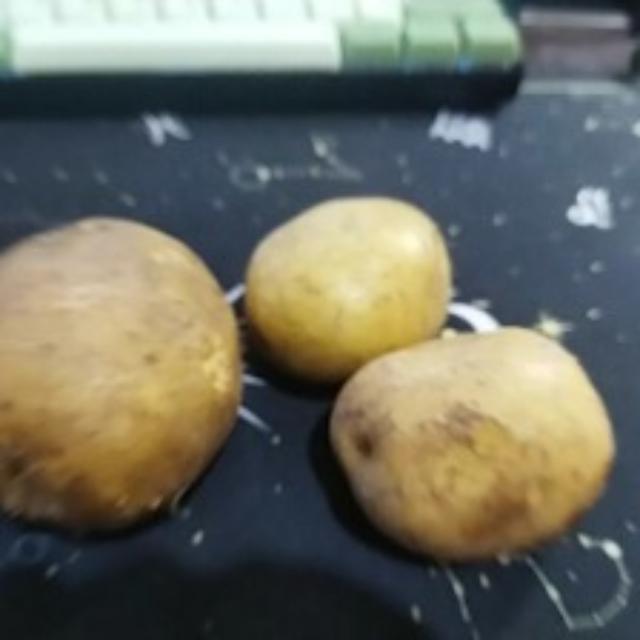Damaged potato: (3, 218, 250, 542), (324, 322, 620, 568)
Potato: (241, 196, 454, 384)
